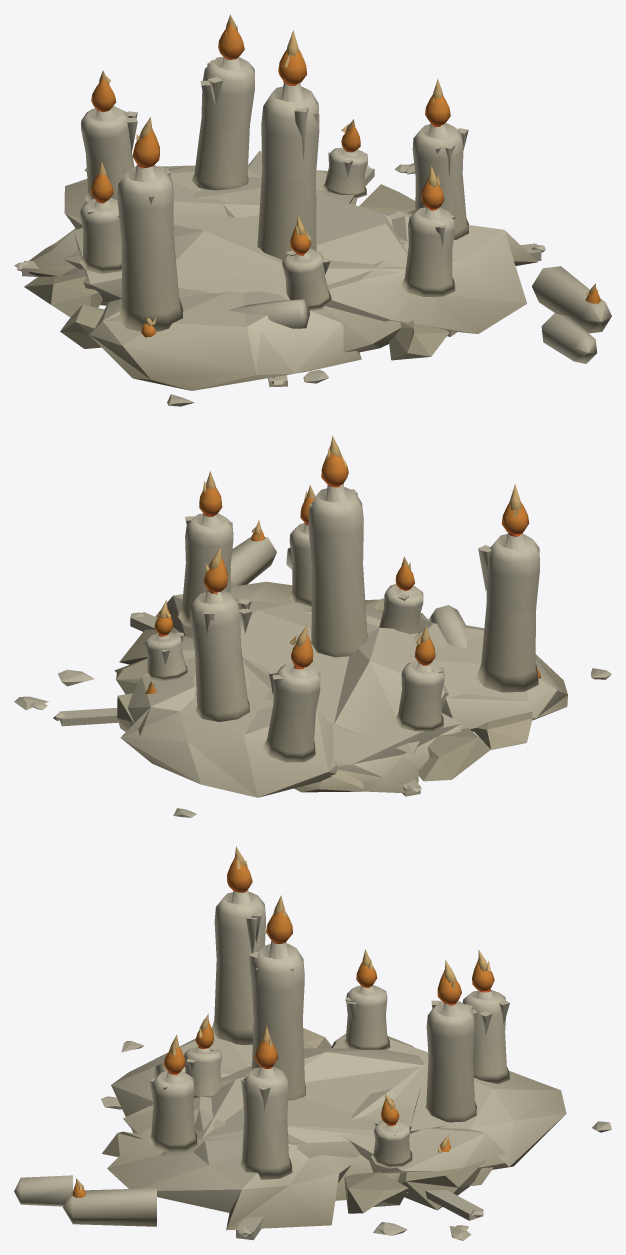
Rendered from dun-floor-candles.glb.
The picture shows the model from 3 angles, top to bottom: view 1: azimuth 30°, elevation 25°; view 2: azimuth 150°, elevation 25°; view 3: azimuth 270°, elevation 25°; orthographic projection. The views are drawn at different scales.
Visible parts, largest first — view 1: dun_floor_candles; view 2: dun_floor_candles; view 3: dun_floor_candles.
Part boxes in pixels (x1,y1,x2,y2): dun_floor_candles: (14,14,611,406); dun_floor_candles: (14,436,611,817); dun_floor_candles: (14,846,611,1240).
Size of the model in its own units: 0.5677 by 0.3336 by 0.711.
